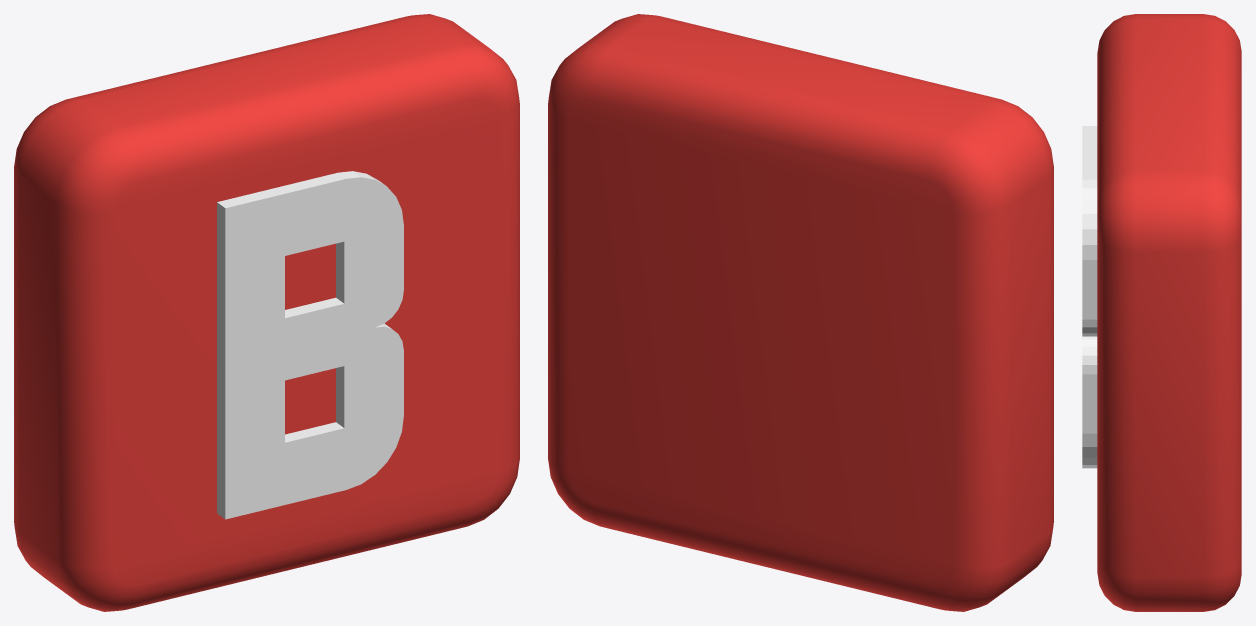
The model's file is b_button_blood_type.gltf.
3 views of the same model, side by side, from view 1: azimuth 30°, elevation 25°; view 2: azimuth 150°, elevation 25°; view 3: azimuth 270°, elevation 25° (orthographic). The views are drawn at different scales.
Parts seen in each view (by area): view 1: Cube.6604, Cube.6603; view 2: Cube.6604; view 3: Cube.6604, Cube.6603.
Part boxes in pixels (x1,y1,x2,y2): Cube.6604: (14, 14, 519, 611); Cube.6603: (217, 171, 403, 519); Cube.6604: (548, 14, 1053, 611); Cube.6604: (1097, 14, 1241, 611); Cube.6603: (1082, 126, 1097, 468).
Bounding box in the file's own units: 2.2 × 2.2 × 0.73.
Materials: 1 (1 with a texture image).
